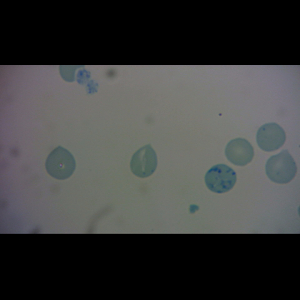aggregate reticulocyte: (205, 163, 237, 194)
erythrocyte: (44, 146, 76, 180), (225, 138, 255, 167)
punctate reticulocyte: (265, 148, 298, 184), (130, 143, 158, 178), (255, 122, 287, 152)
